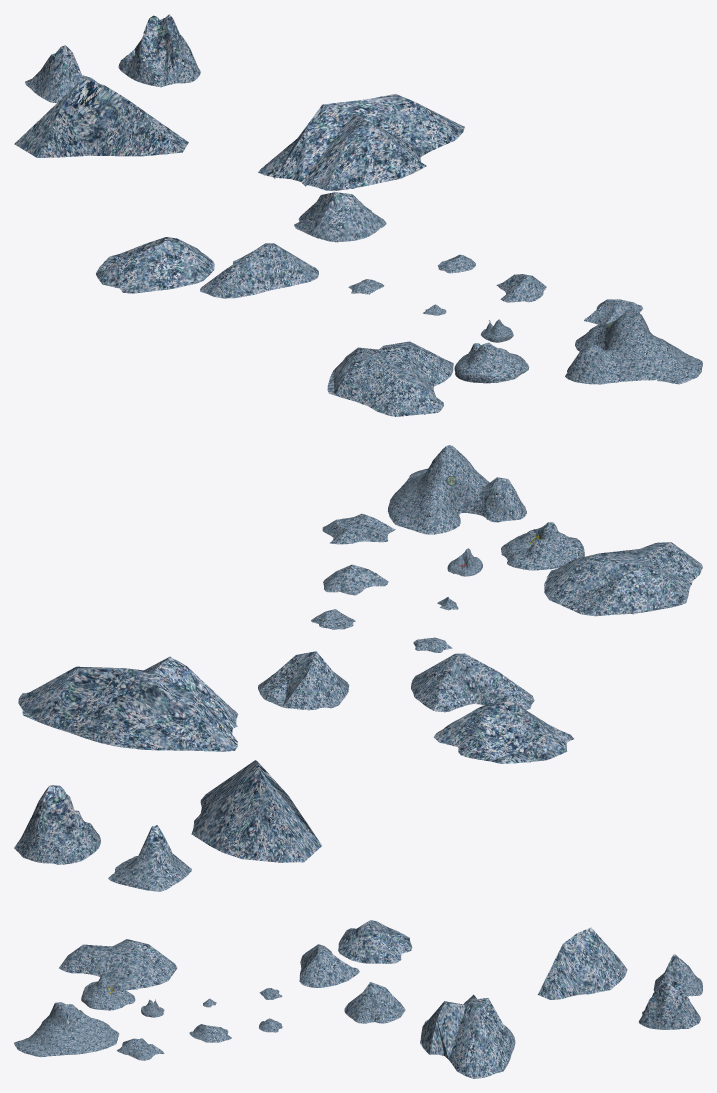
Rendered from montagne_ensemble_12.glb.
3 renders of one model, top to bottom at view 1: azimuth 30°, elevation 25°; view 2: azimuth 150°, elevation 25°; view 3: azimuth 270°, elevation 25°, orthographic. The views are drawn at different scales.
Visible parts, largest first — view 1: montagne_annexe_1; view 2: montagne_annexe_1; view 3: montagne_annexe_1, montagne_centrale.
Part boxes in pixels (bbox=[...]): montagne_annexe_1: bbox=[14, 14, 702, 416]; montagne_annexe_1: bbox=[14, 445, 702, 891]; montagne_annexe_1: bbox=[14, 920, 702, 1078]; montagne_centrale: bbox=[141, 999, 164, 1017].
Size of the model in its own units: 349 by 49 by 662.
Materials: 2 (2 with a texture image).
